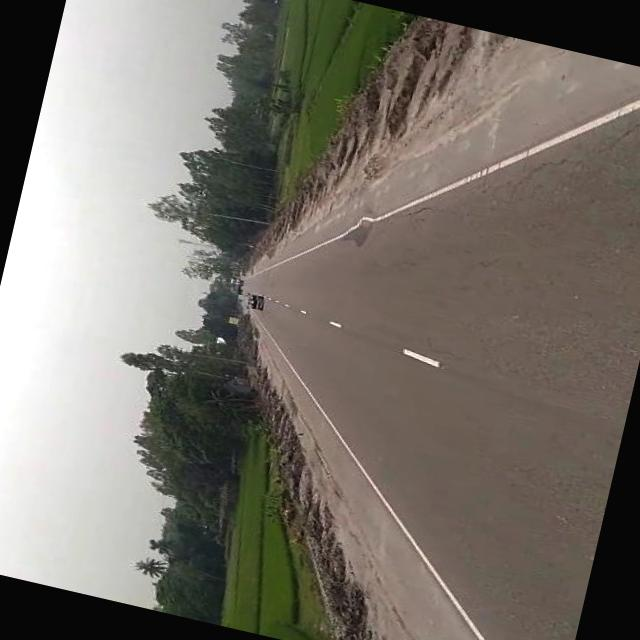car: (239, 292, 262, 310)
truck: (227, 282, 240, 294)
